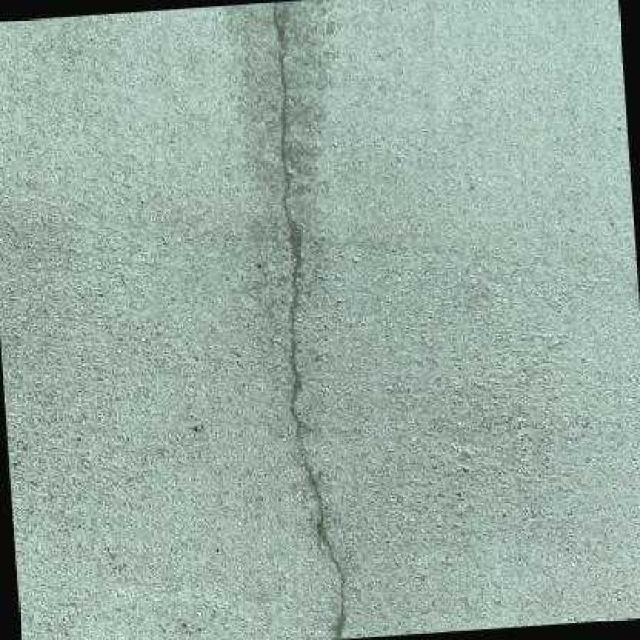D00: (275, 2, 344, 640)
